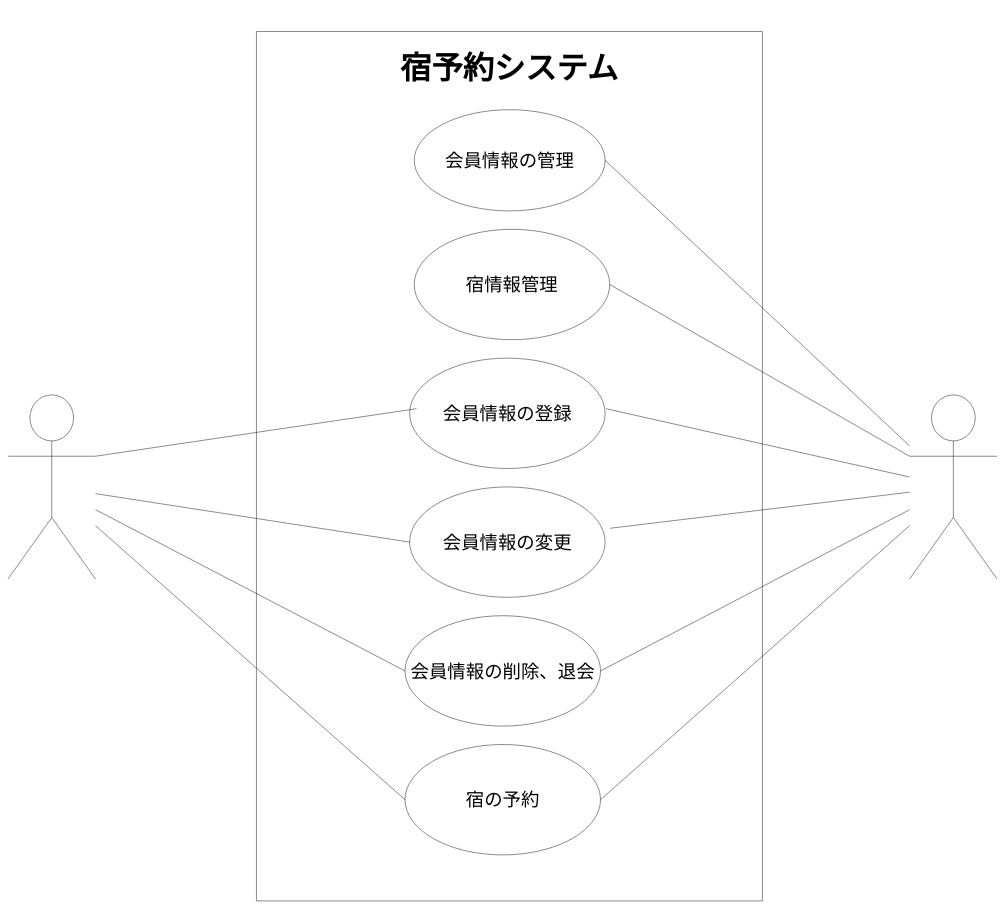
Image size: 1005x913. Some labels were removed from this diagram. The centre of each missing label's shape, as x and y in pixels:
"利用者側" belongs at pixel 51 486.
"管理者側" belongs at pixel 953 486.
